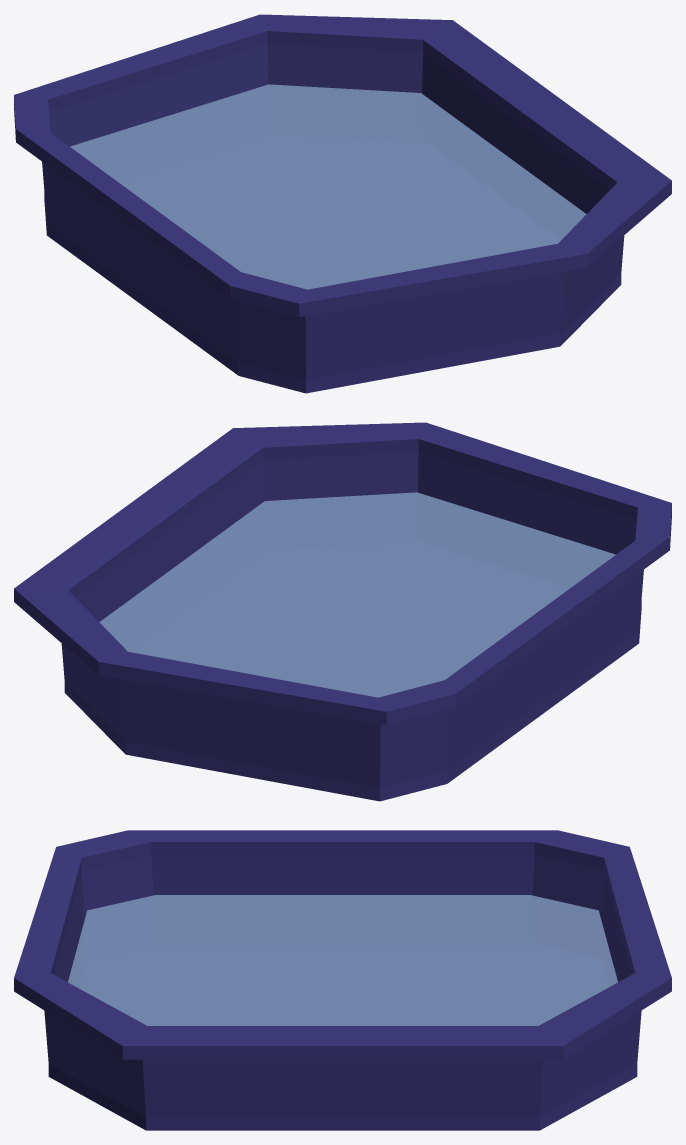
File: Pediluve.fbx
3 renders of one model, top to bottom at view 1: azimuth 30°, elevation 25°; view 2: azimuth 150°, elevation 25°; view 3: azimuth 270°, elevation 25°, orthographic.
Parts seen in each view (by area): view 1: Pédi; view 2: Pédi; view 3: Pédi.
Part boxes in pixels (x1,y1,x2,y2): Pédi: (14, 14, 671, 393); Pédi: (14, 422, 671, 801); Pédi: (14, 830, 671, 1130).
Size of the model in its own units: 20.85 by 4.67 by 26.89.
